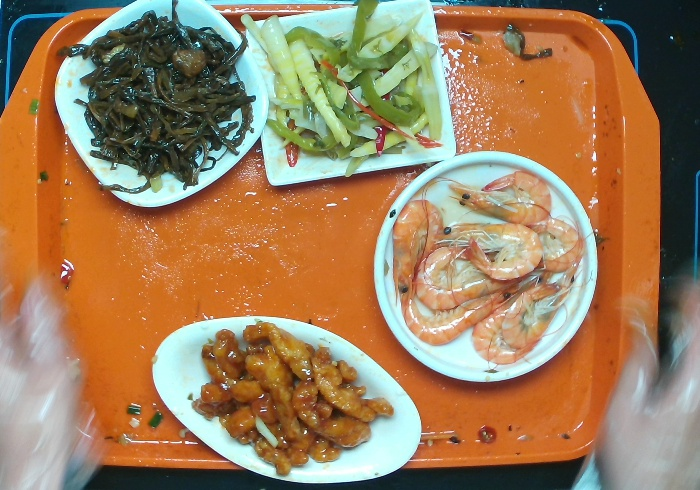HZYJPL-Si_Fang_Die: (240, 1, 460, 192)
HZYJPL-Si_Fang_Yuan_Die: (47, 1, 274, 214)
HZYJPL-Xiao_Yu_Die: (145, 313, 426, 487)
HZYJPL-Xiao_Yuan_Die: (367, 145, 608, 393)
